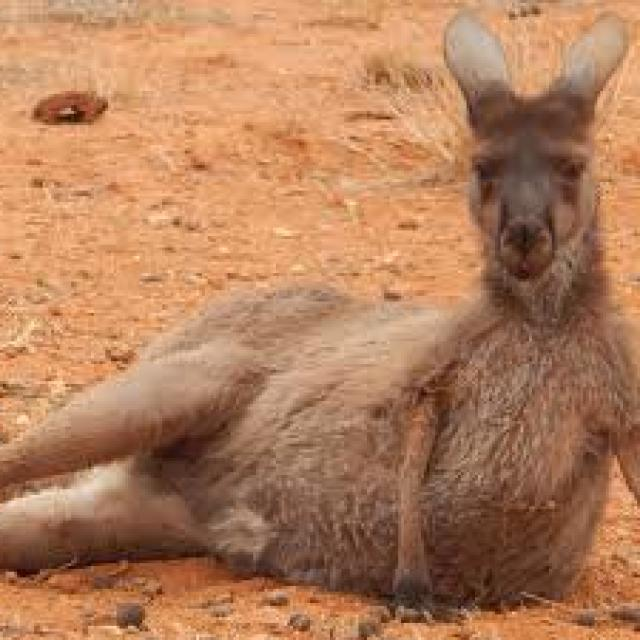kangaroo: (3, 14, 640, 603)
